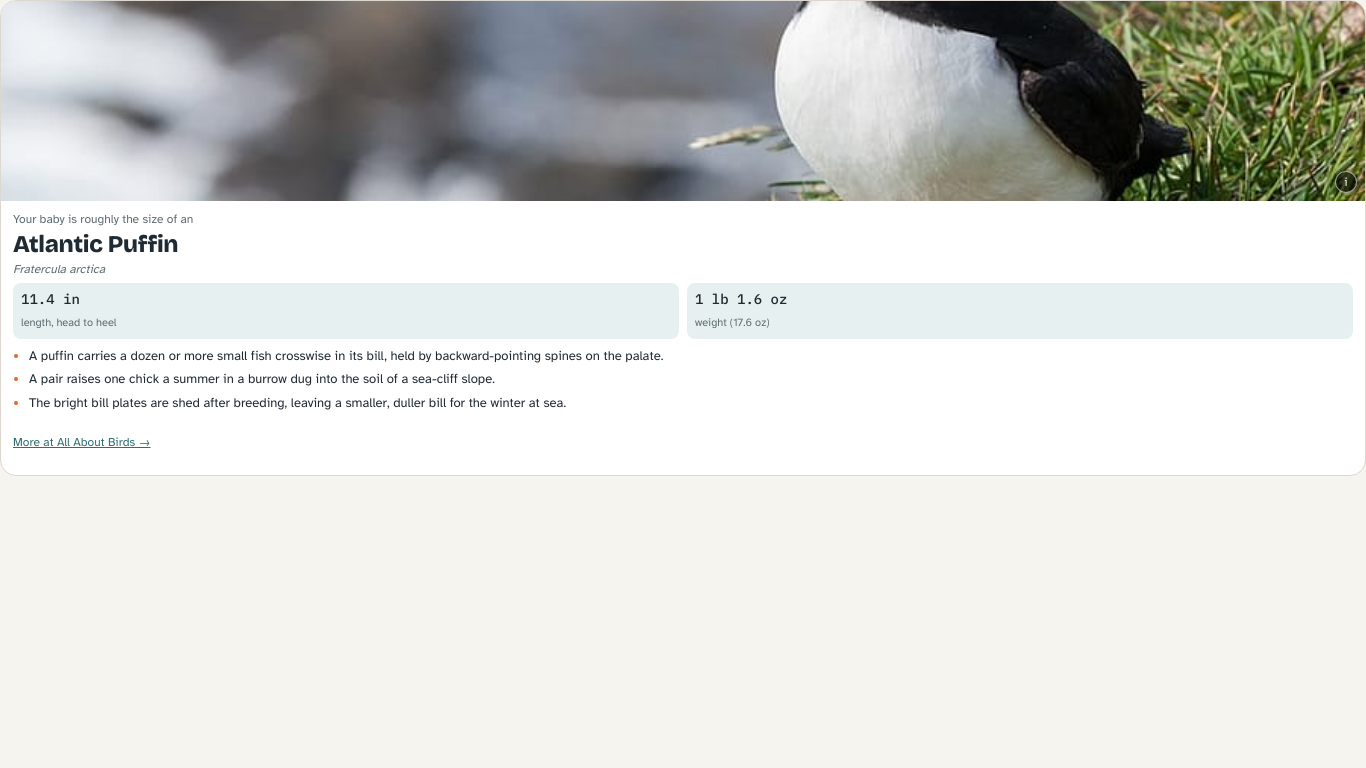
ComparisonCard › closes on Escape and returns focus to the inset that opened it
Click the button "1 lb 1.6 oz weight (17.6 oz)": (741,299) [687,283,1353,339]
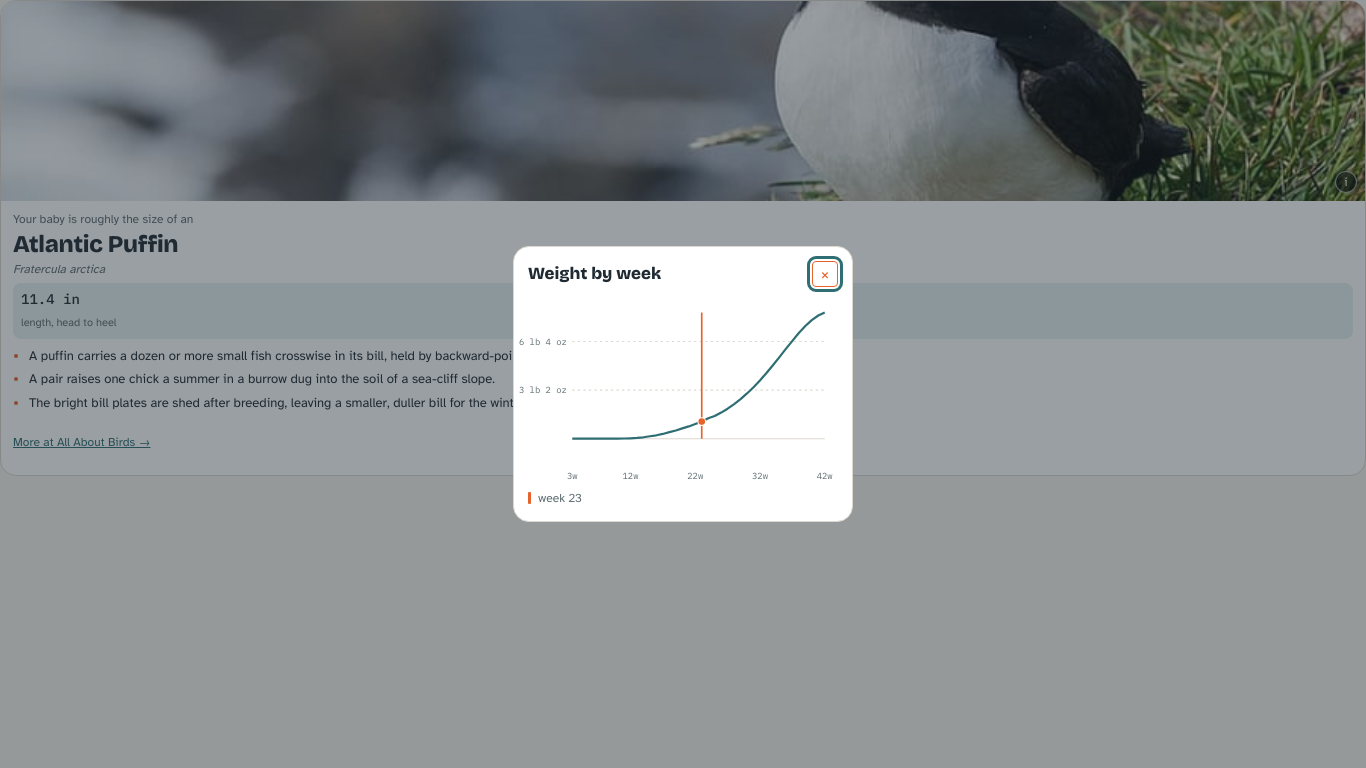
Result: the dialog is shown at [513,246,853,522]
Press Escape
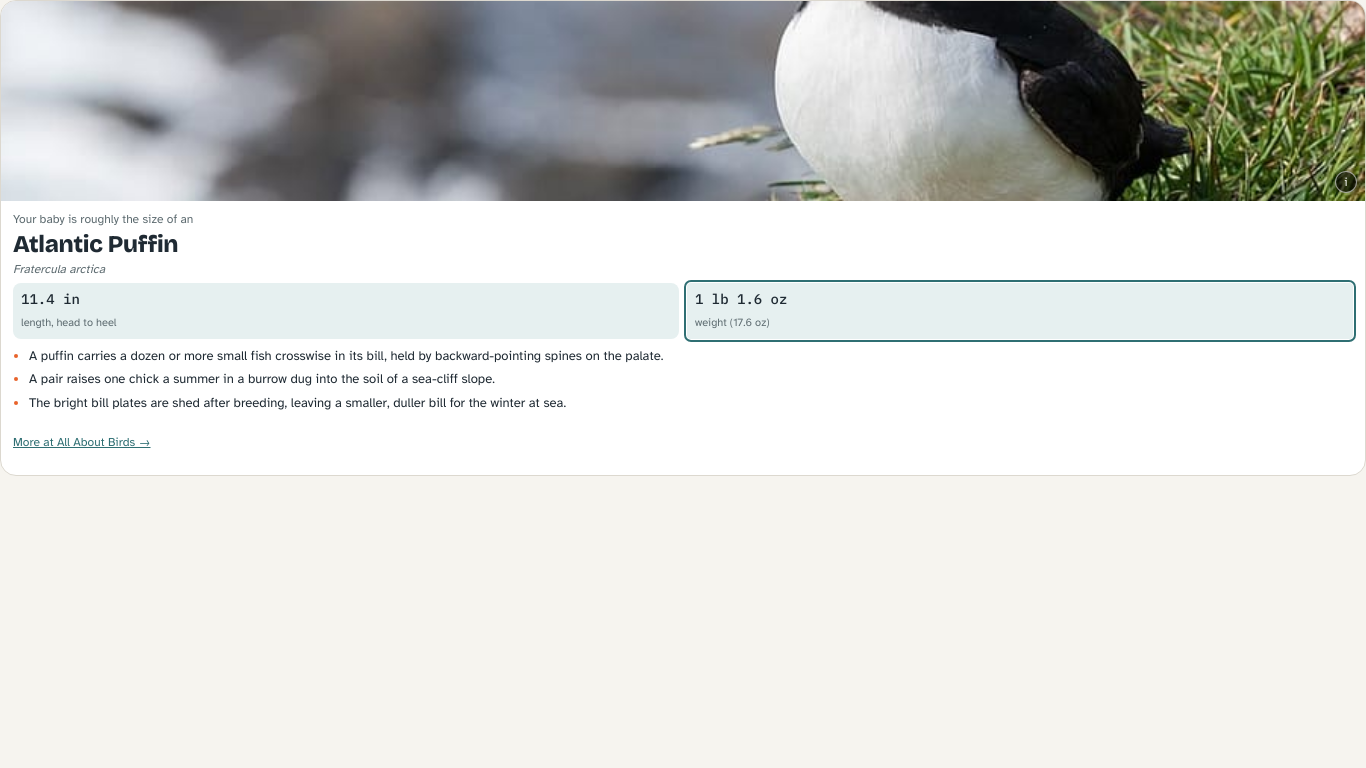
Result: the dialog is gone
